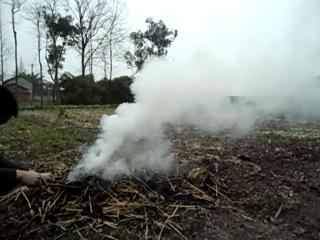yanwu: (75, 50, 279, 174)
